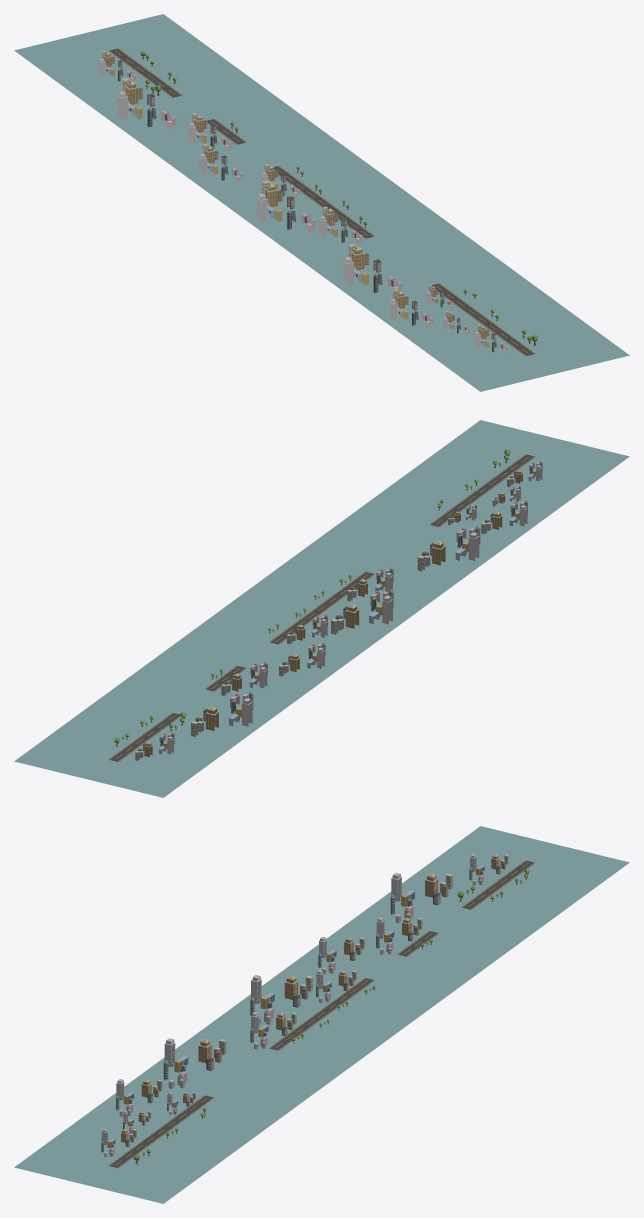
The model's file is Stage_00.fbx.
3 views of the same model, one above another, from view 1: azimuth 30°, elevation 25°; view 2: azimuth 150°, elevation 25°; view 3: azimuth 330°, elevation 25° (orthographic).
Parts seen in each view (by area): view 1: Ground_geo; view 2: Ground_geo; view 3: Ground_geo.
Boxes of the visible parts, left/top/right/bottom form: Ground_geo: left=14, top=14, right=629, bottom=391; Ground_geo: left=14, top=420, right=629, bottom=797; Ground_geo: left=14, top=826, right=629, bottom=1203.
Size of the model in its own units: 10000 by 1596 by 54051.
